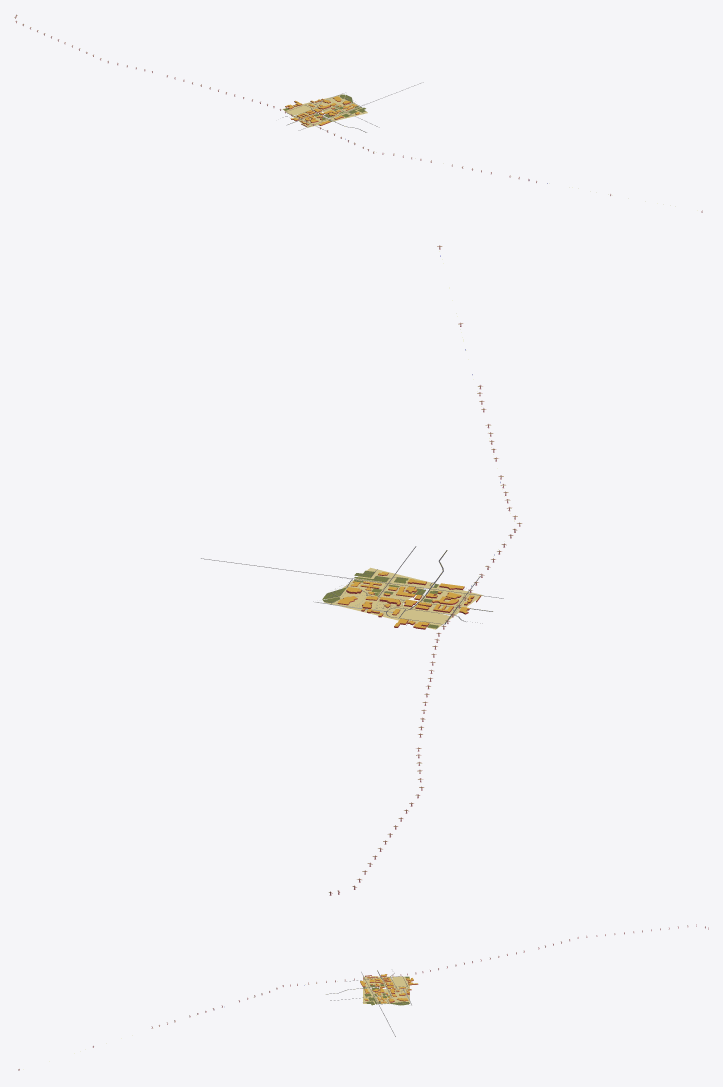
The model's file is nmsu_osm.dae.
3 renders of one model, top to bottom at view 1: azimuth 30°, elevation 25°; view 2: azimuth 150°, elevation 25°; view 3: azimuth 270°, elevation 25°, orthographic. The views are drawn at different scales.
Visible parts, largest first — view 1: no part large enough to name; view 2: no part large enough to name; view 3: SurfaceArea821.
Part boxes in pixels (<box>): SurfaceArea821: <box>363,989,392,1001</box>.
Size of the model in its own units: 3536 by 7066 by 25.
